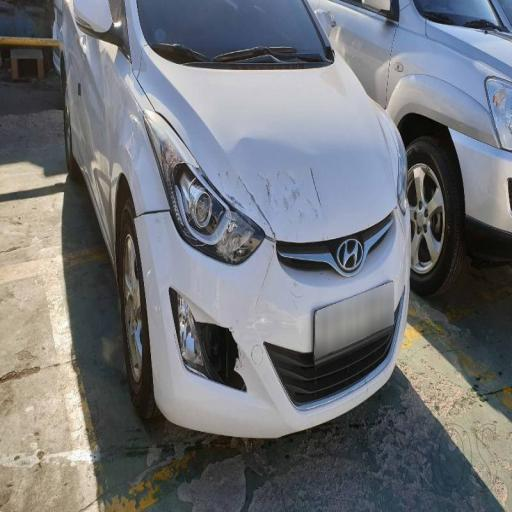broken: (112, 211, 267, 427)
scratch: (236, 148, 347, 238), (117, 83, 193, 186)
